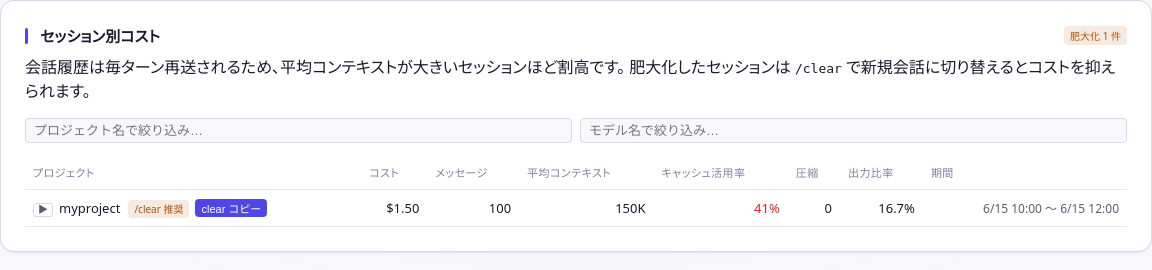
Test: SessionBreakdown › clear コピーボタンをクリックするとコピー済みアイコン(Icon コンポーネント)が表示される
The width and height of the screenshot is (1152, 270).
Click the button "clear コピー".
click(231, 208)  # box x1=196 y1=199 x2=267 y2=217
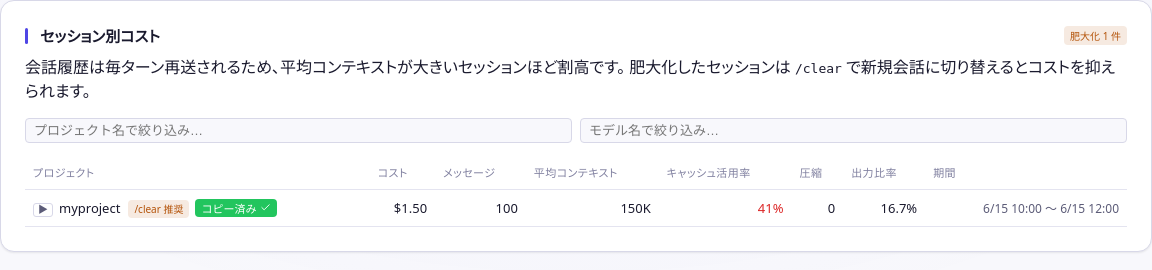
Expected: the icon with test id "icon-check" is shown, x1=260 y1=202 x2=270 y2=213
